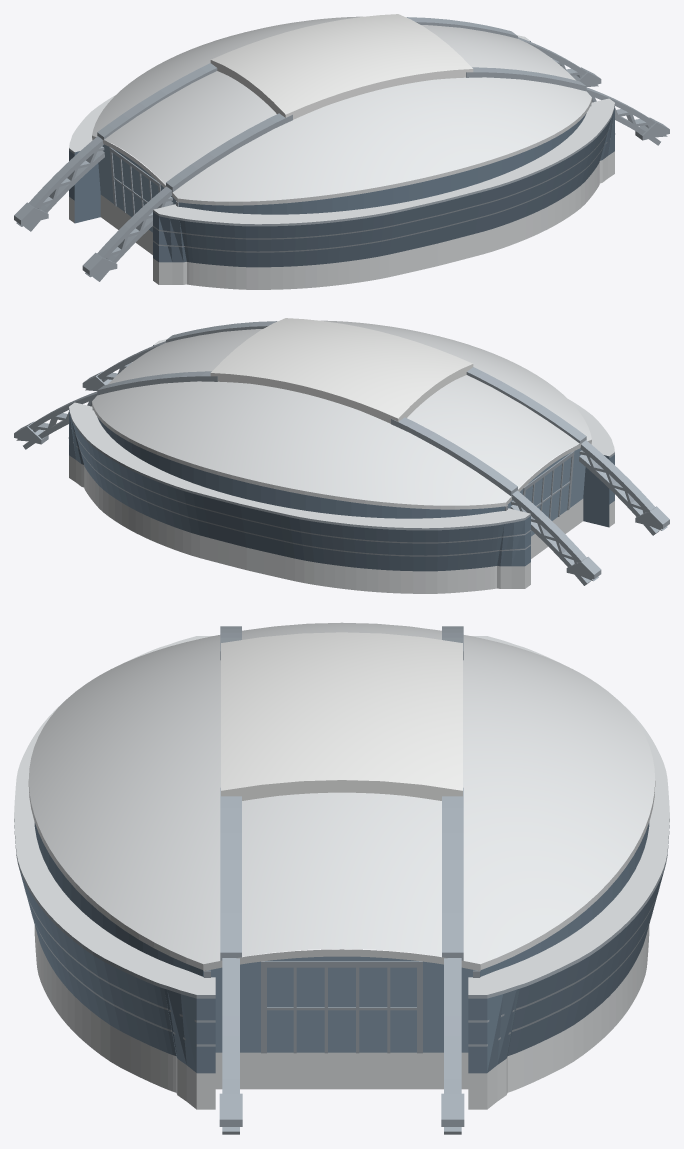
Rendered from dal-att-stadium.glb.
3 renders of one model, top to bottom at view 1: azimuth 30°, elevation 25°; view 2: azimuth 150°, elevation 25°; view 3: azimuth 270°, elevation 25°, orthographic. The views are drawn at different scales.
Parts seen in each view (by area): view 1: AT&T Stadium; view 2: AT&T Stadium; view 3: AT&T Stadium.
Boxes of the visible parts, x1,y1,x2,y2 form: AT&T Stadium: (14, 14, 669, 289); AT&T Stadium: (14, 318, 669, 593); AT&T Stadium: (14, 622, 669, 1134).
Size of the model in its own units: 402 by 98.3 by 244.
